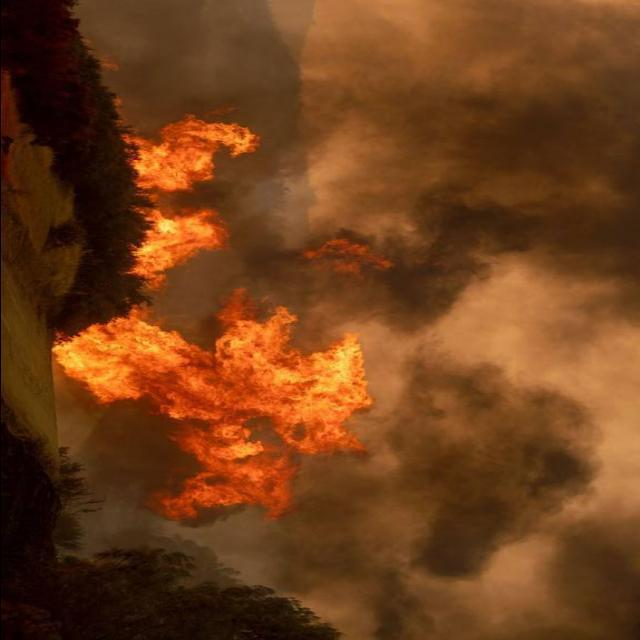Fire: (52, 124, 378, 524)
